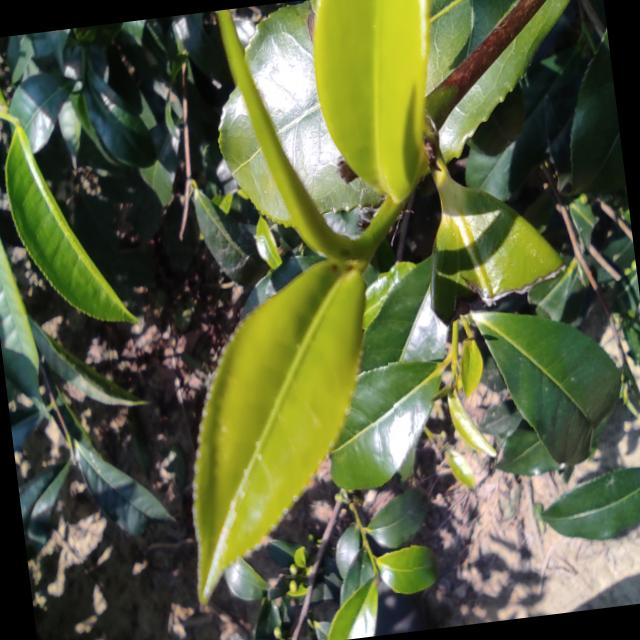Category C(4-7 days): (145, 213, 416, 618)
